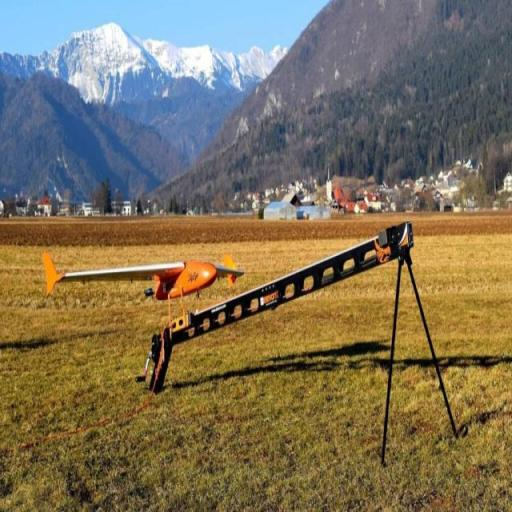uav: (32, 240, 244, 296)
